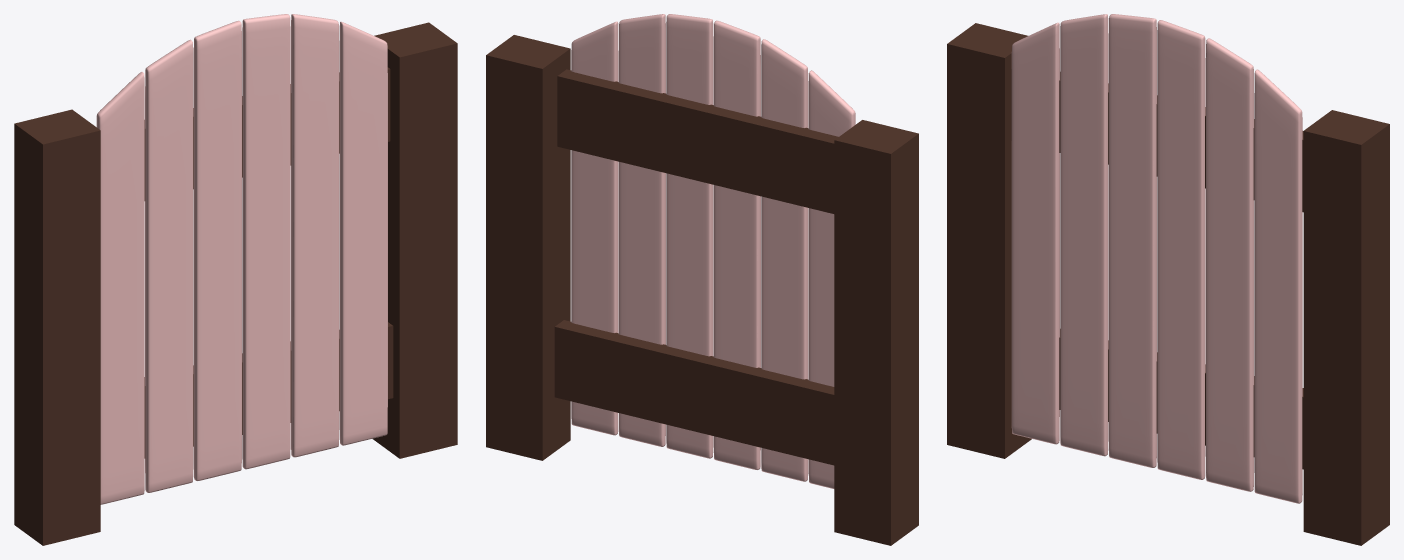
The model's file is picket_fence_gate.glb.
3 renders of one model, left to right at view 1: azimuth 30°, elevation 25°; view 2: azimuth 150°, elevation 25°; view 3: azimuth 330°, elevation 25°, orthographic. The views are drawn at different scales.
Parts seen in each view (by area): view 1: Picket.001, Post.002, Post.001, Crosspiece.001; view 2: Picket.001, Crosspiece.001, Post.002, Post.001; view 3: Picket.001, Post.001, Post.002, Crosspiece.001.
Part boxes in pixels (left/top/right/bottom): Picket.001: left=96, top=14, right=387, bottom=504; Post.002: left=14, top=109, right=100, bottom=545; Post.001: left=372, top=22, right=457, bottom=458; Crosspiece.001: left=144, top=67, right=393, bottom=458; Picket.001: left=571, top=14, right=855, bottom=488; Crosspiece.001: left=554, top=69, right=838, bottom=465; Post.002: left=834, top=120, right=918, bottom=545; Post.001: left=486, top=35, right=570, bottom=460; Picket.001: left=1011, top=14, right=1302, bottom=503; Post.001: left=1303, top=110, right=1389, bottom=545; Post.002: left=947, top=23, right=1031, bottom=458; Crosspiece.001: left=1011, top=69, right=1303, bottom=469.
Bounding box in the file's own units: 2.79 × 3.03 × 0.3335.
